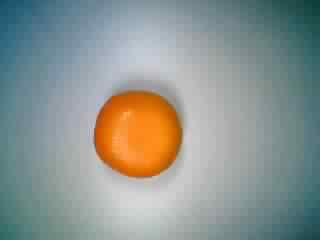orange: (87, 86, 184, 182)
